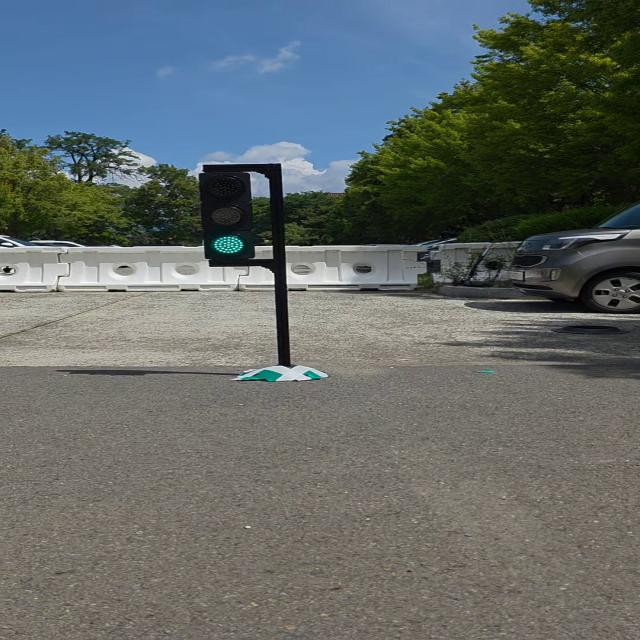green: (197, 170, 255, 262)
